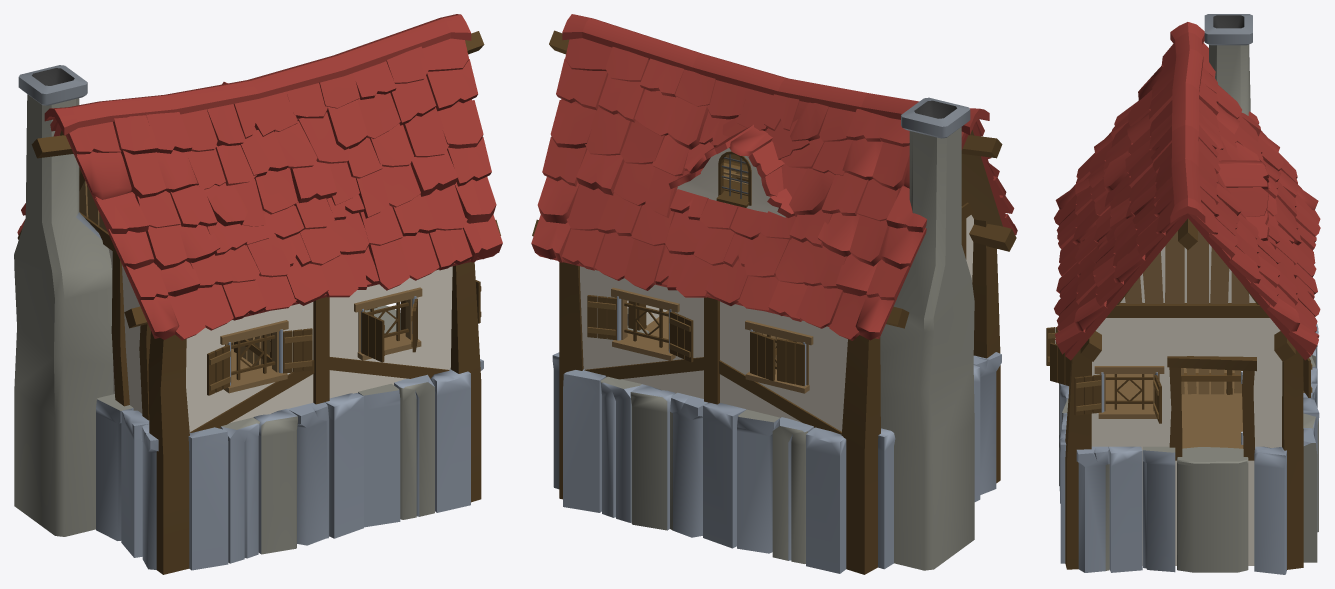
The model's file is House_04_LOD0.fbx.
3 renders of one model, left to right at view 1: azimuth 30°, elevation 25°; view 2: azimuth 150°, elevation 25°; view 3: azimuth 270°, elevation 25°, orthographic. The views are drawn at different scales.
Parts seen in each view (by area): view 1: House_02_LOD0; view 2: House_02_LOD0; view 3: House_02_LOD0.
Boxes of the visible parts, <box> form: House_02_LOD0: <box>14,14,502,574</box>; House_02_LOD0: <box>531,14,1017,574</box>; House_02_LOD0: <box>1046,14,1320,574</box>.
Bounding box in the file's own units: 1181 × 1122 × 701.
